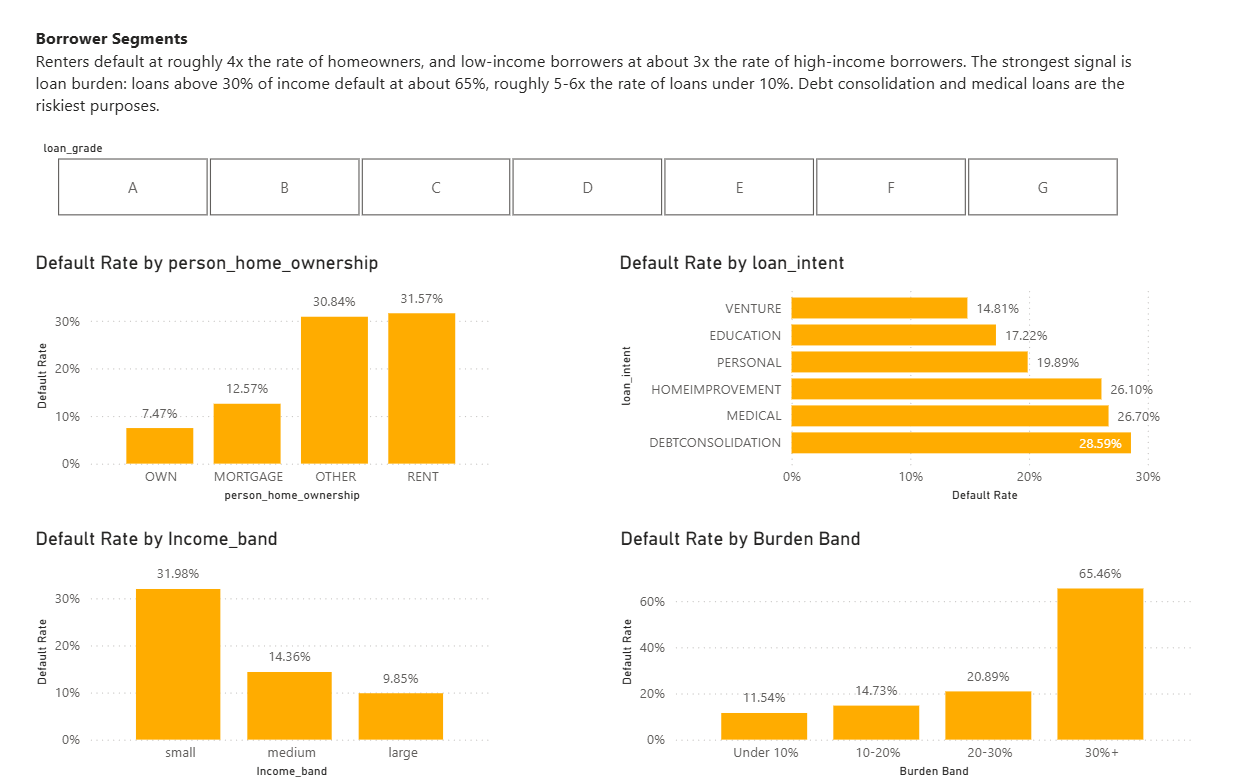

This screenshot's page, from the dashboard's own definition file:
{"tool":"powerbi","page":{"name":"Borrower Segments","canvas":[1280,720],"ordinal":4},"visuals":[{"type":"clusteredColumnChart","title":"Default Rate  by person_home_ownership","fields":{"Y":["credit_risk_dataset.Default Rate"],"Category":["credit_risk_dataset.person_home_ownership"]},"box":[102,239.4,419.7,229.4],"z":0},{"type":"clusteredBarChart","title":"Default Rate  by loan_intent","fields":{"Category":["credit_risk_dataset.loan_intent"],"Y":["credit_risk_dataset.Default Rate"]},"box":[625.4,239.4,522.6,229.4],"z":1000},{"type":"clusteredColumnChart","title":"Default Rate  by Income_band","fields":{"Y":["credit_risk_dataset.Default Rate"],"Category":["credit_risk_dataset.Incame_band"]},"box":[102,486.1,419,229.4],"z":2000},{"type":"clusteredColumnChart","title":"Default Rate  by Burden Band","fields":{"Y":["credit_risk_dataset.Default Rate"],"Category":["credit_risk_dataset.Burden Band"]},"box":[626.3,486.1,521.7,229.4],"z":3000},{"type":"textbox","box":[102,32.8,997.8,93.8],"z":4000},{"type":"slicer","fields":{"Values":["credit_risk_dataset.loan_grade"]},"box":[101.3,135.6,998.8,78.6],"z":5000}]}

Visuals, with their boxes on the page's 1280x720 design canvas (x1, y1, x2, y2). These are canvas units, not pixel positions in the 1251x784 screenshot, which may show the page scaled, cropped or inside an application window:
"Default Rate  by person_home_ownership" clusteredColumnChart: pyautogui.locateOnScreen(102, 239, 522, 469)
"Default Rate  by loan_intent" clusteredBarChart: pyautogui.locateOnScreen(625, 239, 1148, 469)
"Default Rate  by Income_band" clusteredColumnChart: pyautogui.locateOnScreen(102, 486, 521, 716)
"Default Rate  by Burden Band" clusteredColumnChart: pyautogui.locateOnScreen(626, 486, 1148, 716)
textbox: pyautogui.locateOnScreen(102, 33, 1100, 127)
slicer - credit_risk_dataset.loan_grade: pyautogui.locateOnScreen(101, 136, 1100, 214)
